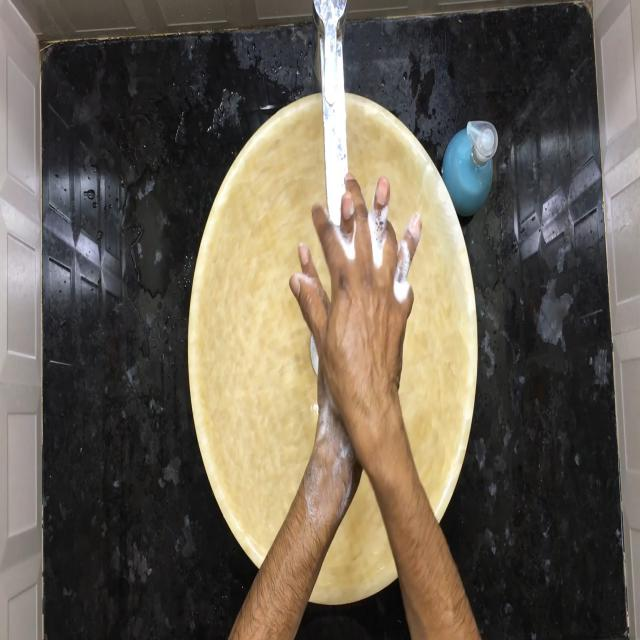step_2: (278, 170, 431, 415)
